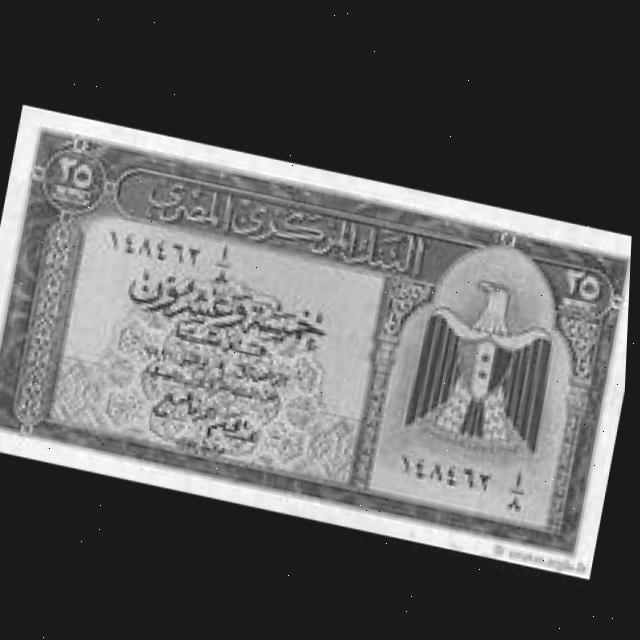banknote: (0, 100, 637, 570)
